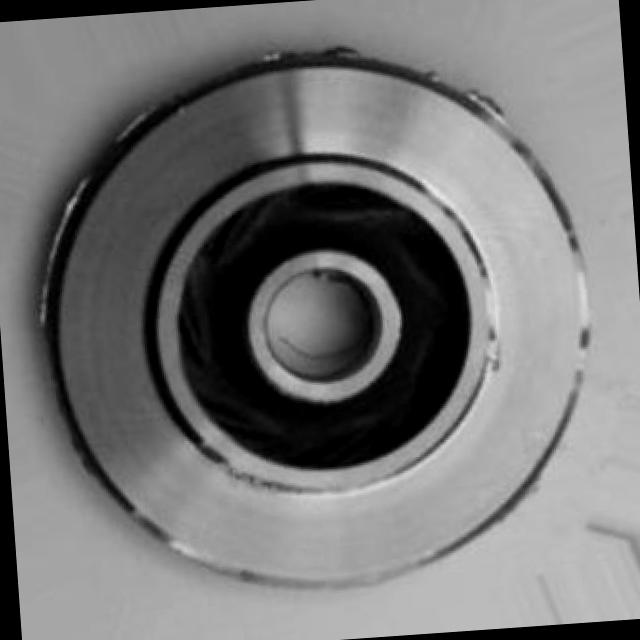Defect: (19, 198, 88, 272)
